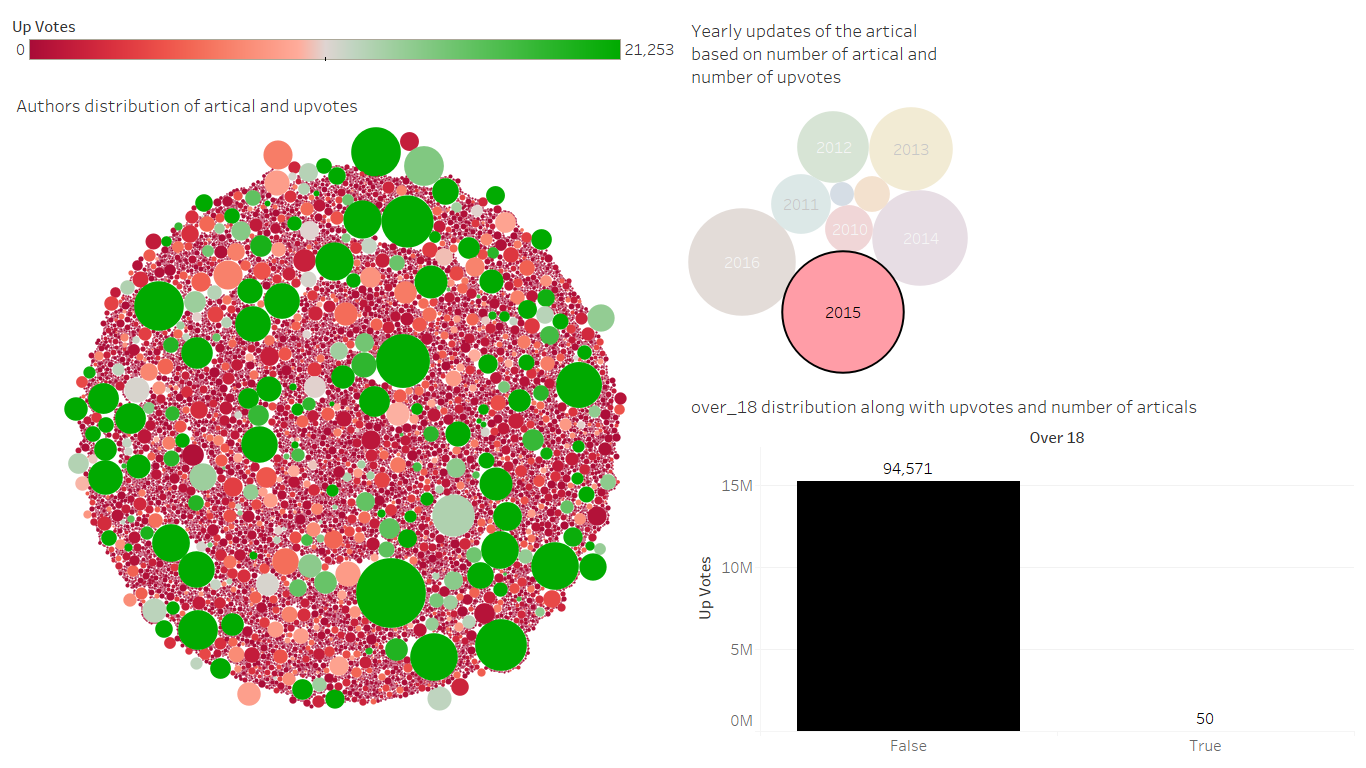

The dashboard page shown, as its layout file describes it:
{"tool":"tableau","page":{"name":"Dashboard 1","canvas":[1366,768],"ordinal":0},"visuals":[{"type":"legend","title":"Sheet 1","param":"[federated.1ng5zmb0twoplm18mtbw31p7slgy].[sum:up_votes:qk]","box":[8,8,675,75]},{"type":"worksheet","title":"Sheet 2","mark":"Circle","box":[683,8,675,376]},{"type":"worksheet","title":"Sheet 1","mark":"Circle","box":[8,83,675,677]},{"type":"worksheet","title":"Sheet 3","mark":"Bar","rows":["up_votes"],"cols":["over_18"],"box":[683,384,675,376]}]}

Visuals, with their boxes in screenshot pixels (x1, y1, x2, y2), scaled from the page's 1366x768 canvas onto the 1366x768 screenshot:
"Sheet 1" legend: 8:8:683:83
"Sheet 2" worksheet (Circle marks): 683:8:1358:384
"Sheet 1" worksheet (Circle marks): 8:83:683:760
"Sheet 3" worksheet (Bar marks): 683:384:1358:760
